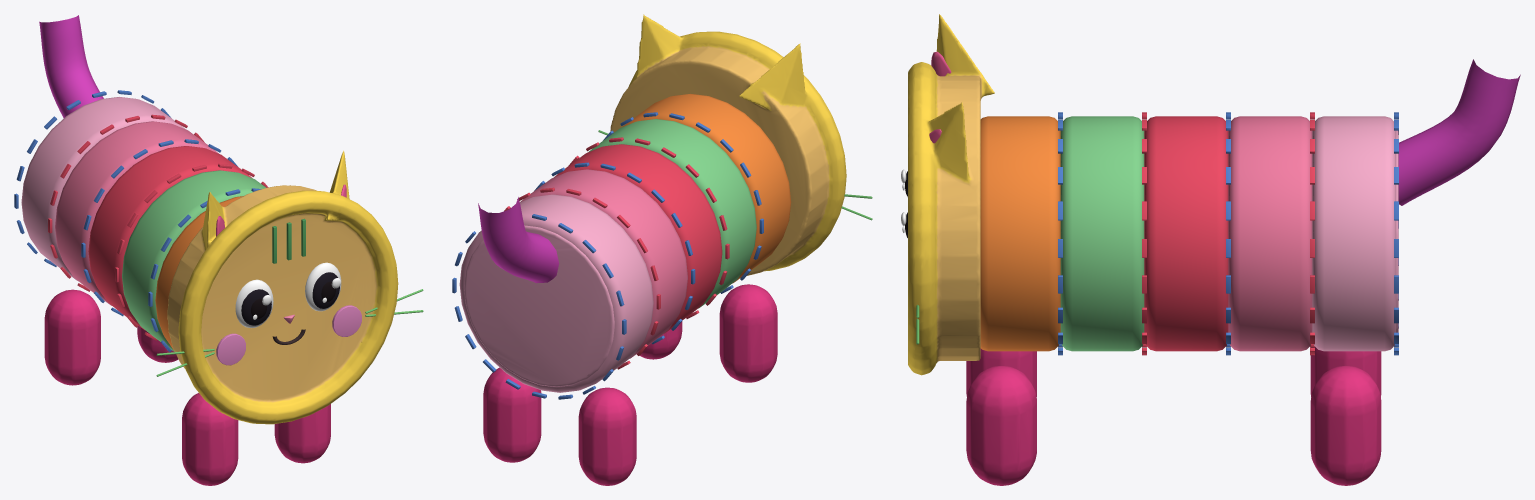
Rendered from pillow-cat.glb.
3 views of the same model, side by side, from view 1: azimuth 30°, elevation 25°; view 2: azimuth 150°, elevation 25°; view 3: azimuth 270°, elevation 25° (orthographic). The views are drawn at different scales.
Visible parts, largest first — view 1: Pillow Cat-body, Pillow Cat-details; view 2: Pillow Cat-body, Pillow Cat-details; view 3: Pillow Cat-details, Pillow Cat-body.
Boxes of the visible parts, x1,y1,x2,y2 form: Pillow Cat-body: (44, 150, 398, 485); Pillow Cat-details: (14, 15, 423, 376); Pillow Cat-body: (464, 14, 846, 485); Pillow Cat-details: (452, 93, 872, 399); Pillow Cat-details: (901, 51, 1520, 355); Pillow Cat-body: (908, 14, 1398, 485).
Size of the model in its own units: 0.9185 by 1.04 by 1.48.
